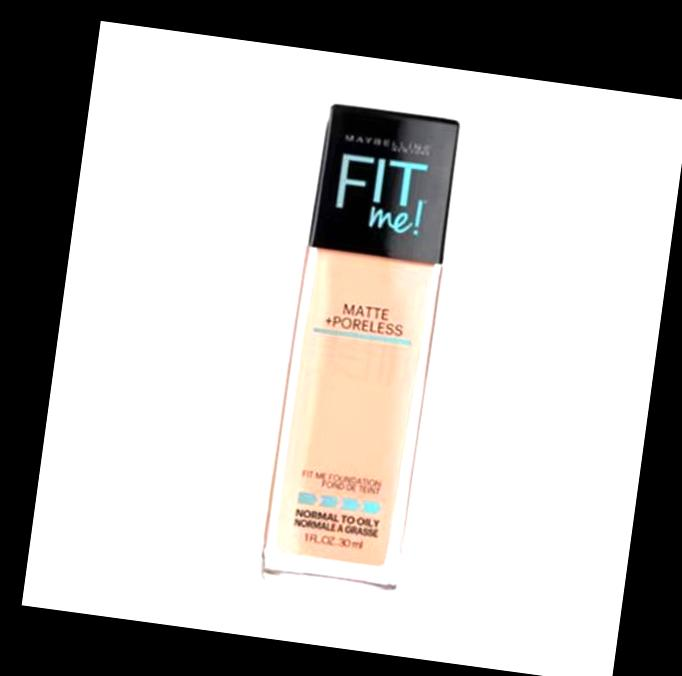cosmetic: (264, 102, 463, 600)
